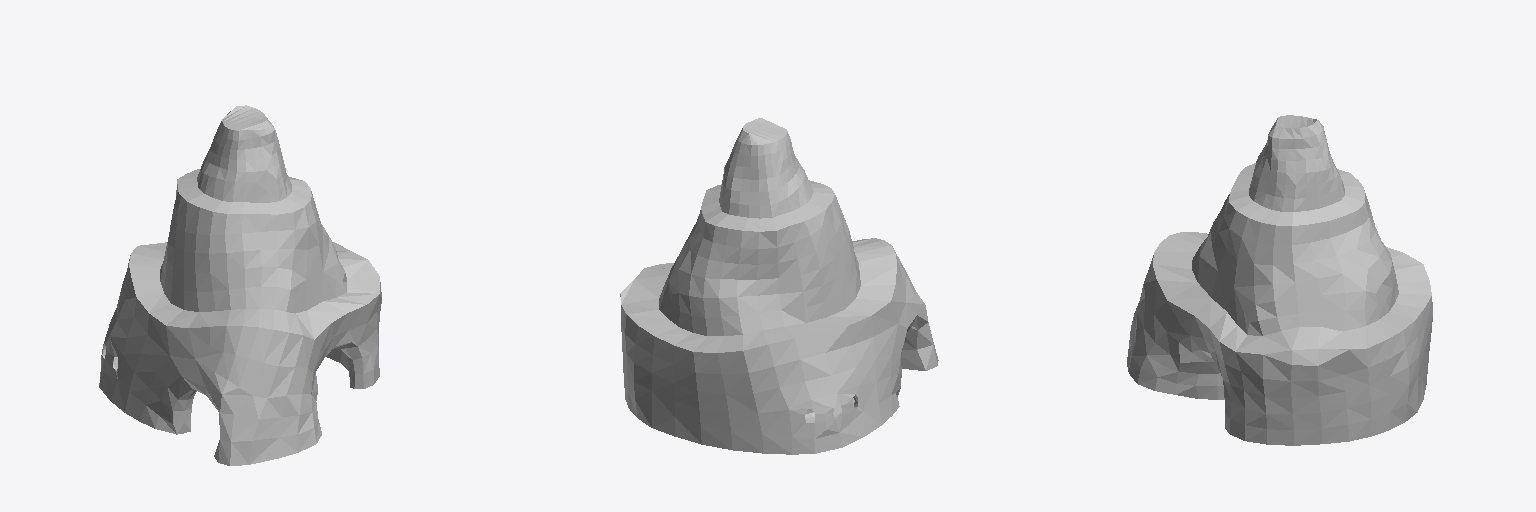
File: MOUNTAIN tunnelled.obj
3 views of the same model, side by side, from view 1: azimuth 30°, elevation 25°; view 2: azimuth 150°, elevation 25°; view 3: azimuth 270°, elevation 25° (orthographic).
Parts seen in each view (by area): view 1: MOUNTAIN_WITH_TUNNEL_retopo; view 2: MOUNTAIN_WITH_TUNNEL_retopo; view 3: MOUNTAIN_WITH_TUNNEL_retopo.
Boxes of the visible parts, x1,y1,x2,y2 form: MOUNTAIN_WITH_TUNNEL_retopo: [99, 105, 381, 465]; MOUNTAIN_WITH_TUNNEL_retopo: [620, 118, 938, 454]; MOUNTAIN_WITH_TUNNEL_retopo: [1127, 115, 1432, 445].
Bounding box in the file's own units: 3464 × 3684 × 3751.